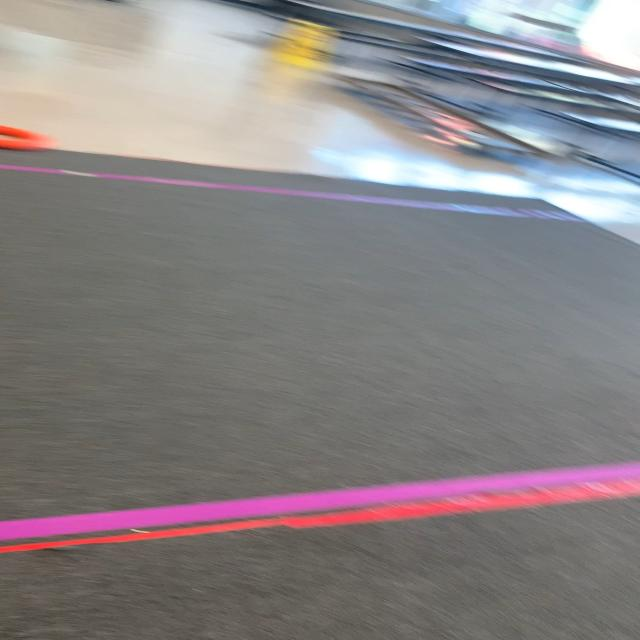notes: (0, 121, 51, 148)
